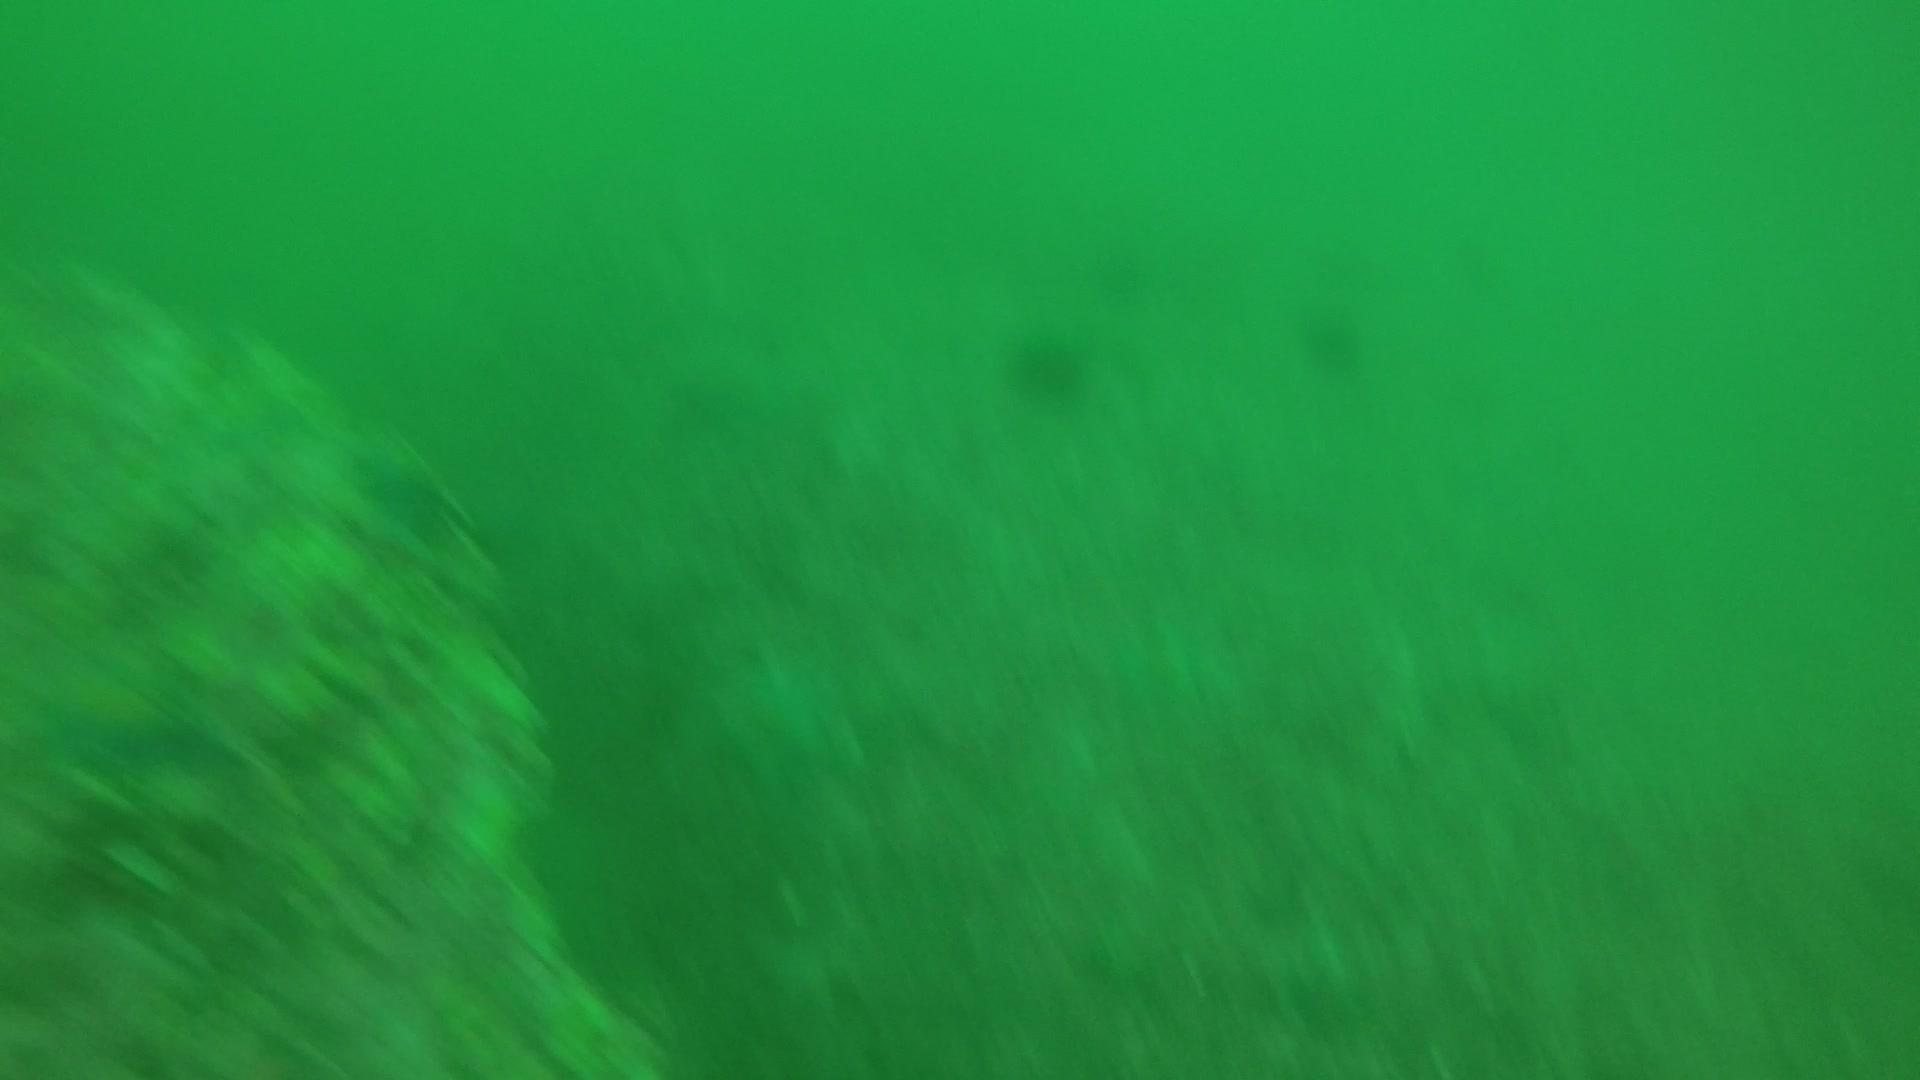echinus: (1001, 324, 1095, 407), (1294, 297, 1371, 378)
starfish: (694, 640, 860, 794)
